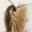cockroach: (5, 4, 18, 32)
